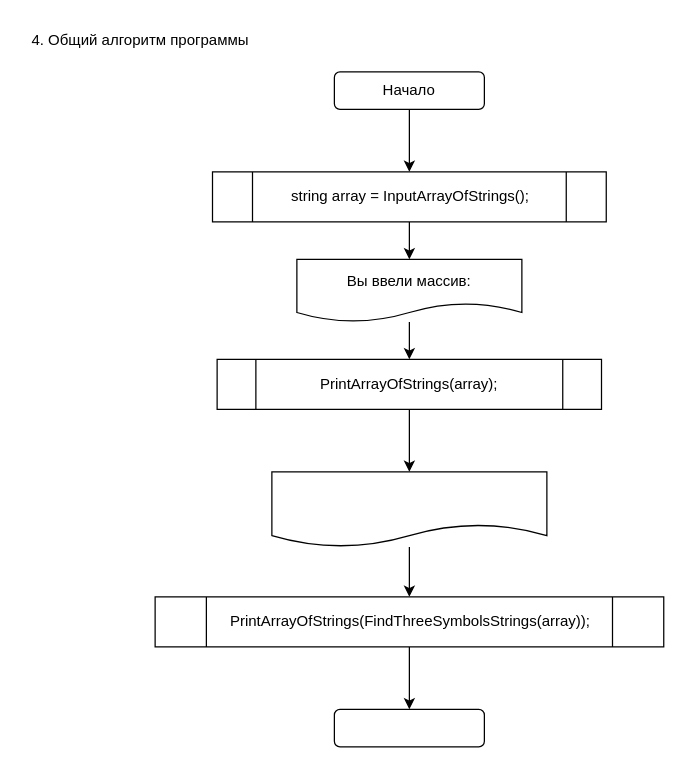
The diagram is 685 pixels wide and 769 high, and some of its shapes have lost their labels. The centre of each missing label's shape, as x and y in pixels:
Конец: the point at 408,727
Массив из строк длиной 3 или менее:: the point at 409,509
